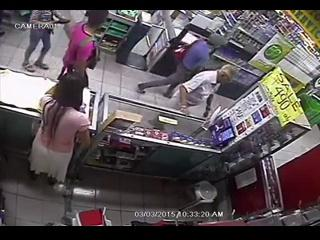Normal: (28, 72, 92, 192), (136, 34, 227, 98), (58, 11, 108, 86), (174, 65, 236, 120), (21, 10, 70, 72)
